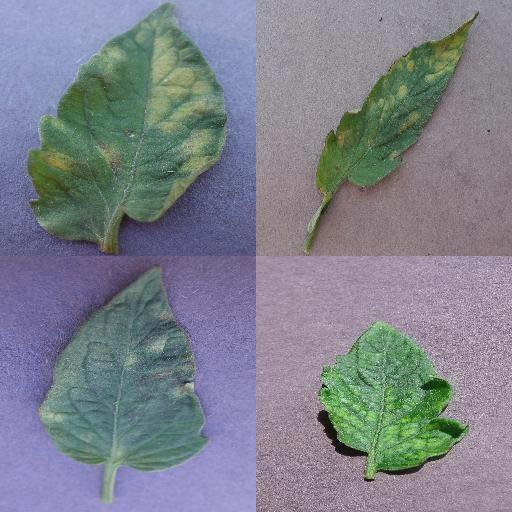Leaf Mold: (30, 1, 228, 241), (37, 262, 209, 474), (318, 11, 476, 197)
Mosaic Virus: (318, 319, 468, 473)
